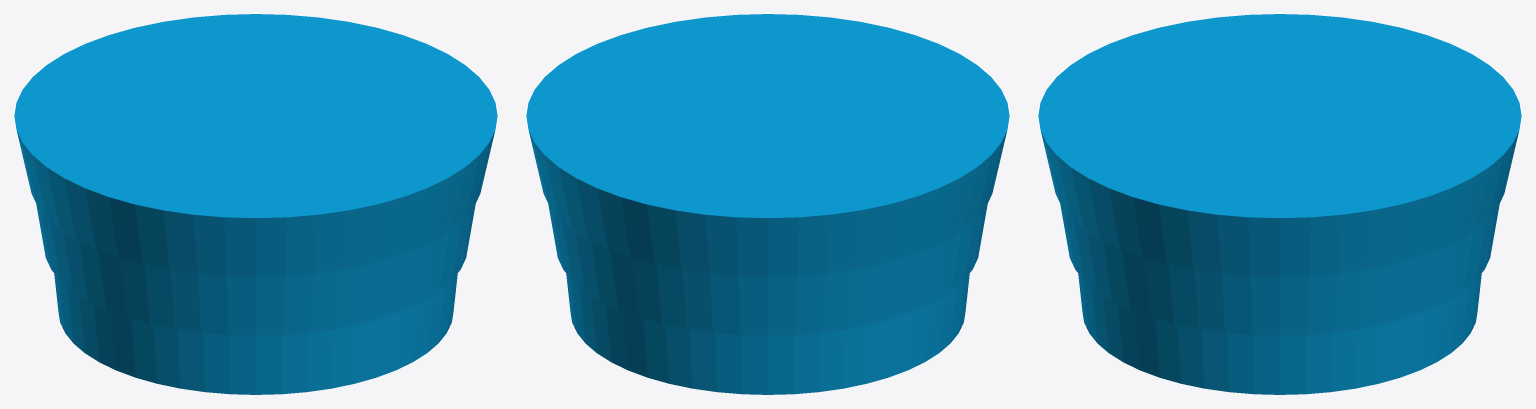
Rendered from CaixaAgua.fbx.
The picture shows the model from 3 angles, left to right: view 1: azimuth 30°, elevation 25°; view 2: azimuth 150°, elevation 25°; view 3: azimuth 270°, elevation 25°; orthographic projection.
Visible parts, largest first — view 1: Cylinder; view 2: Cylinder; view 3: Cylinder.
Boxes of the visible parts, x1,y1,x2,y2 form: Cylinder: (14,14,497,394); Cylinder: (526,14,1009,394); Cylinder: (1038,14,1521,394).
Size of the model in its own units: 134 by 60 by 134.
